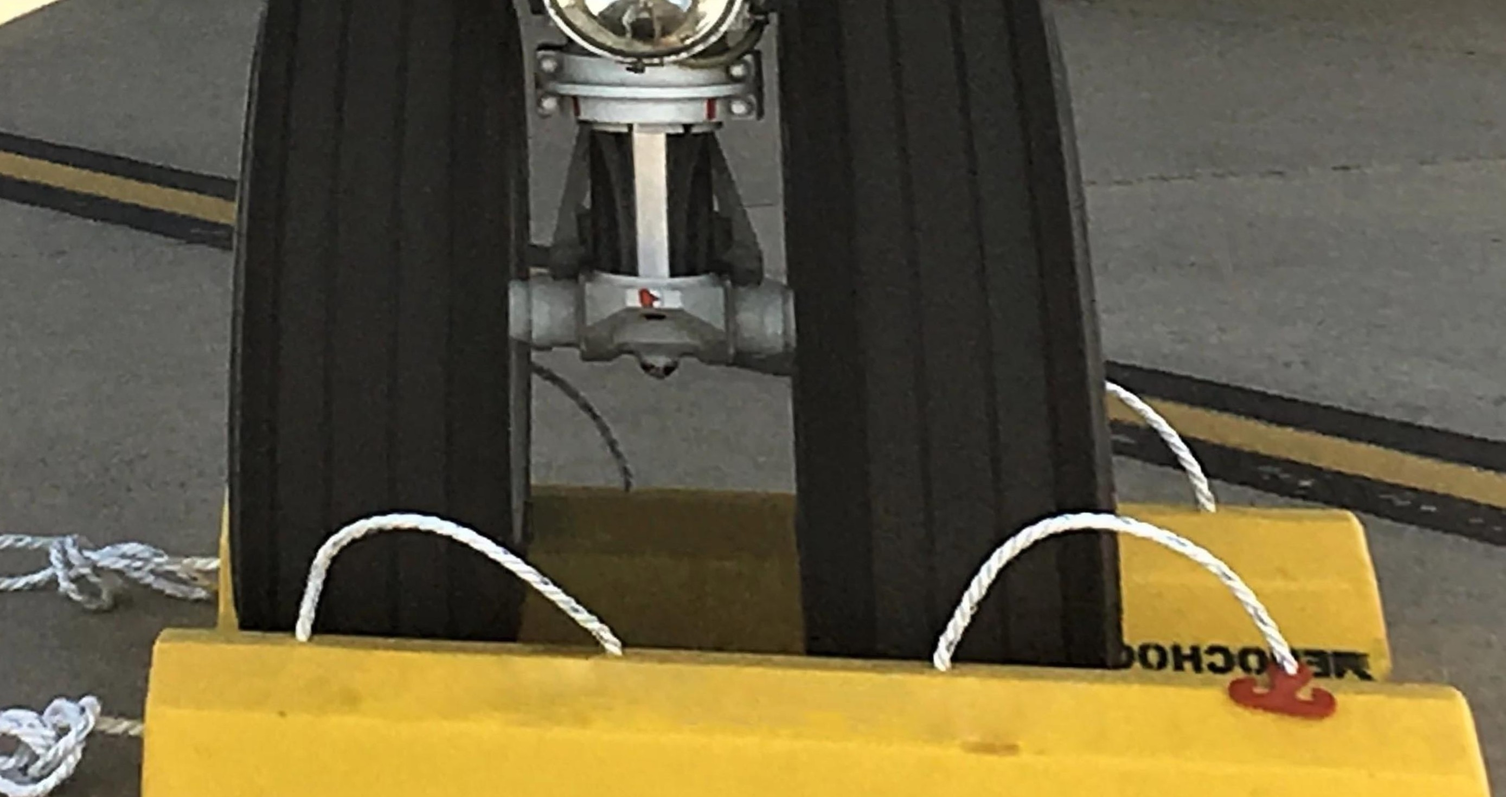chock: (141, 631, 1506, 797), (212, 488, 1398, 676)
wheel: (747, 0, 1154, 669), (223, 0, 566, 643)
